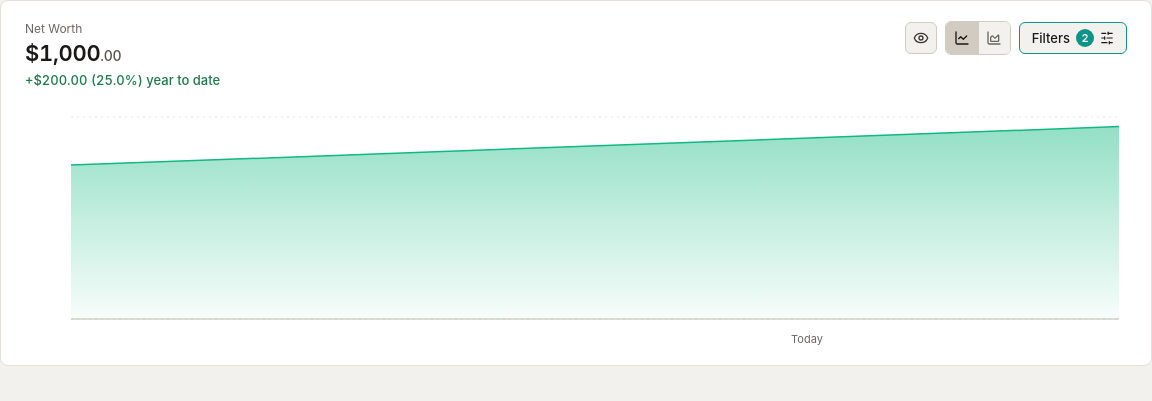
Scenario: NetWorthCard › toggles the filter panel and reflects the active count
Click the button with aria-label "Filters, 2 active".
click(1073, 38)  # box [1019,22,1127,54]
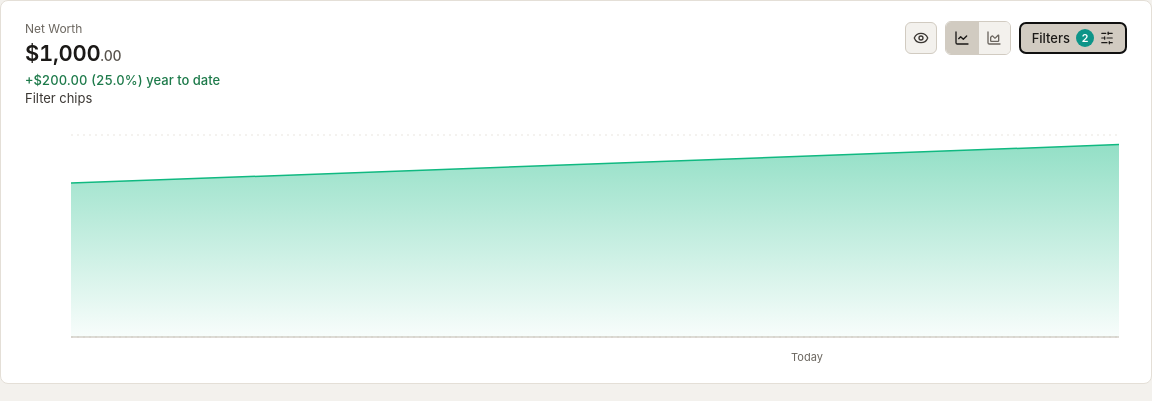
Now the text "Filter chips" is shown, box [25,90,92,106]
Now the button with aria-label "Filters, 2 active" is expanded, box [1019,22,1127,54]
